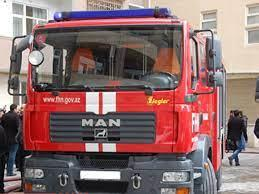Fire-engine: (12, 10, 229, 194)
